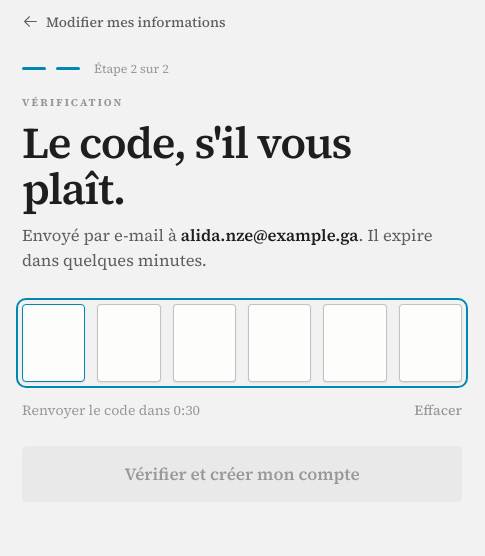
it: OtpVerificationPage › affiche le message précis du serveur (tentatives restantes)
Type "123456" into the field named "Code à six chiffres".
click(242, 343); type("123456")  # box [22, 304, 462, 382]
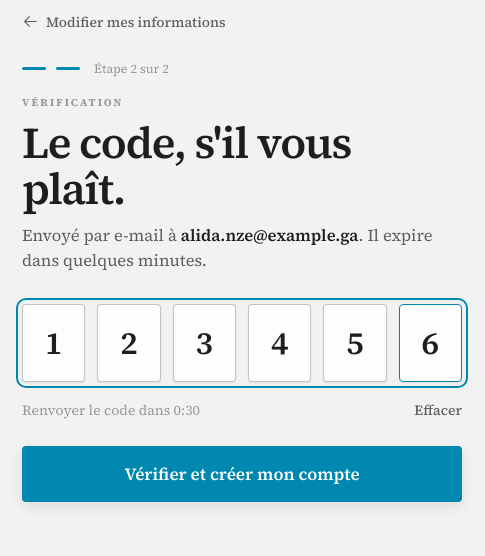
Click the button "Vérifier et créer mon compte".
click(242, 474)  # box [22, 446, 462, 502]
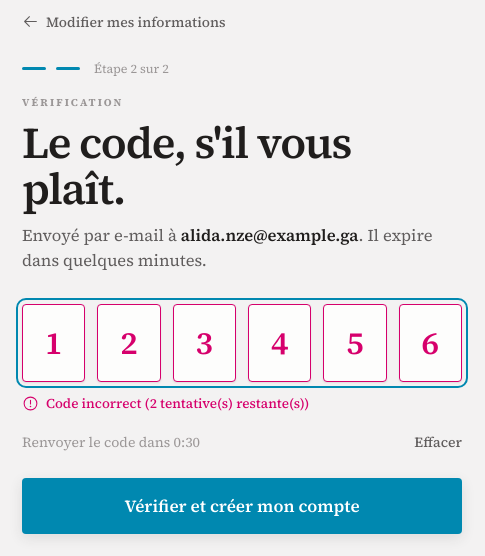
Expected: the message reads "Code incorrect (2 tentative(s) restante(s))", [46, 394, 309, 413]
